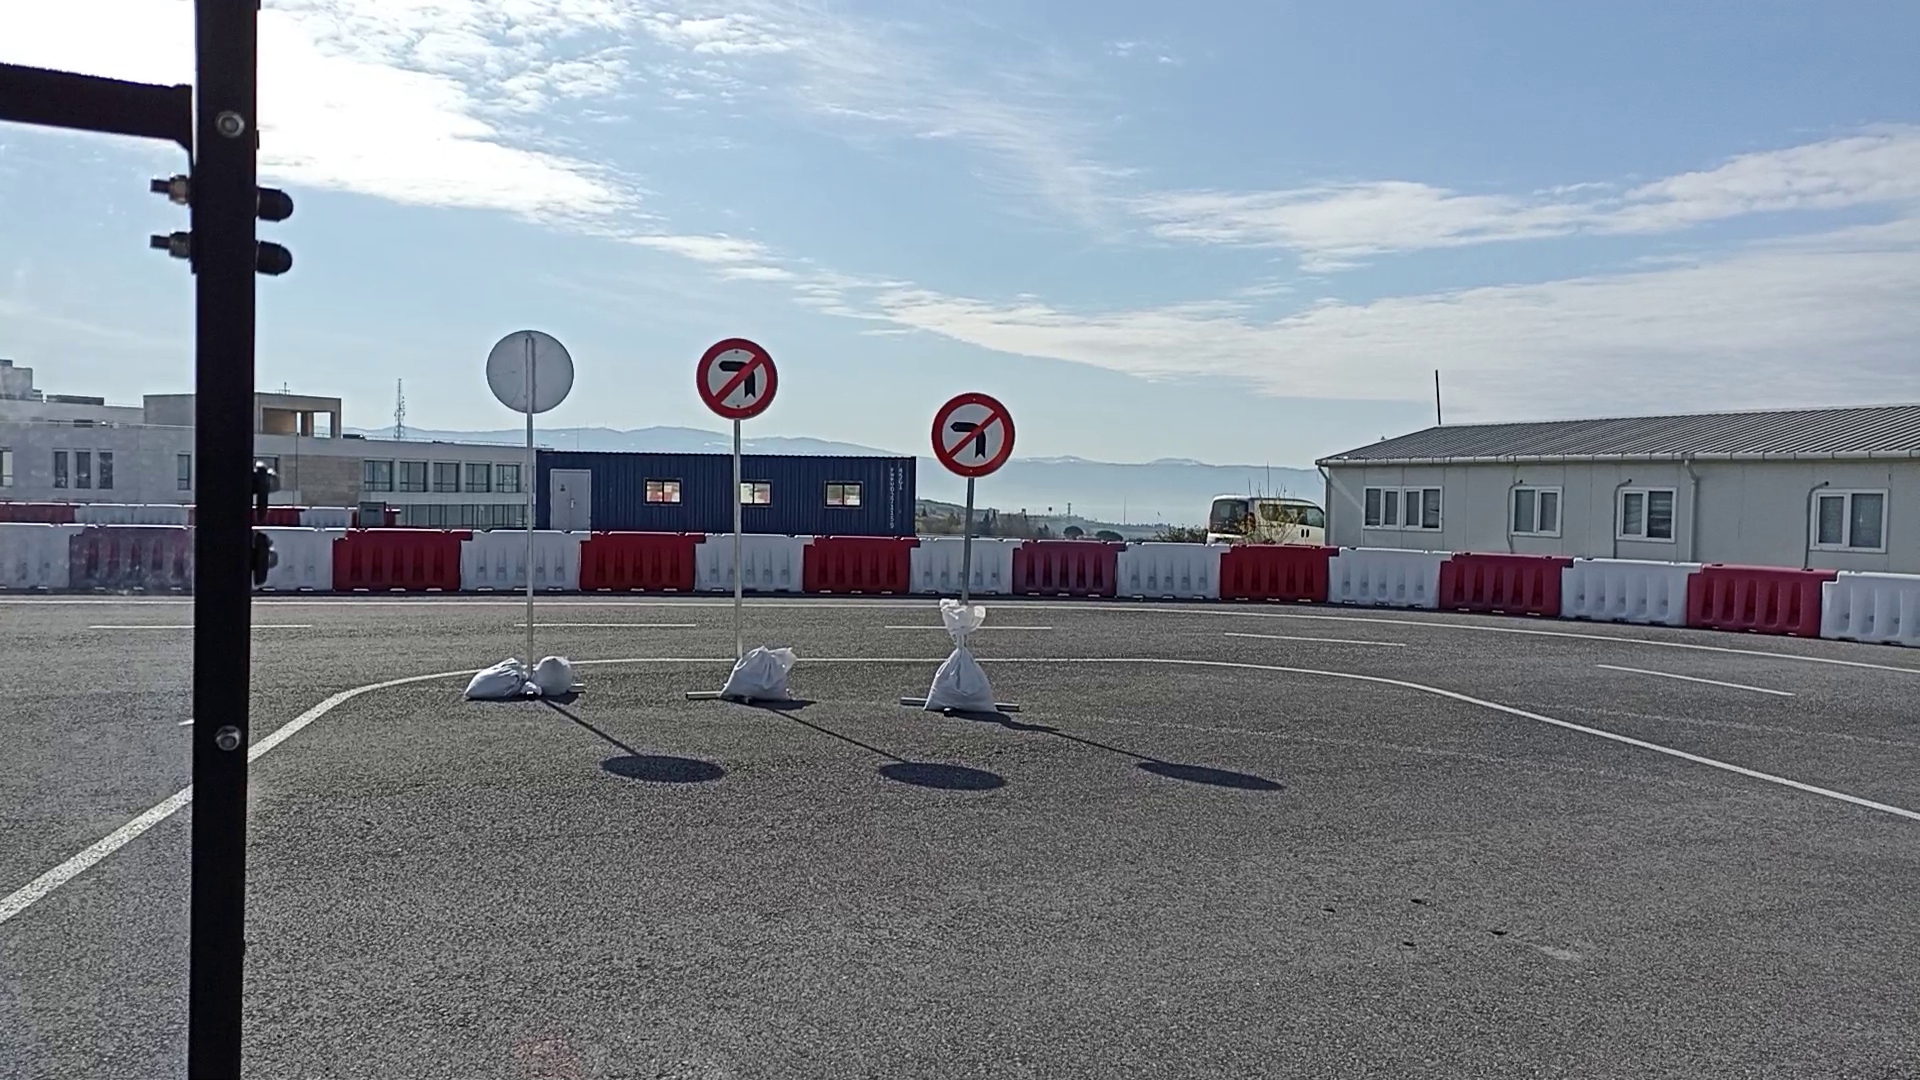noleft: (695, 335, 782, 422), (930, 392, 1015, 477)
